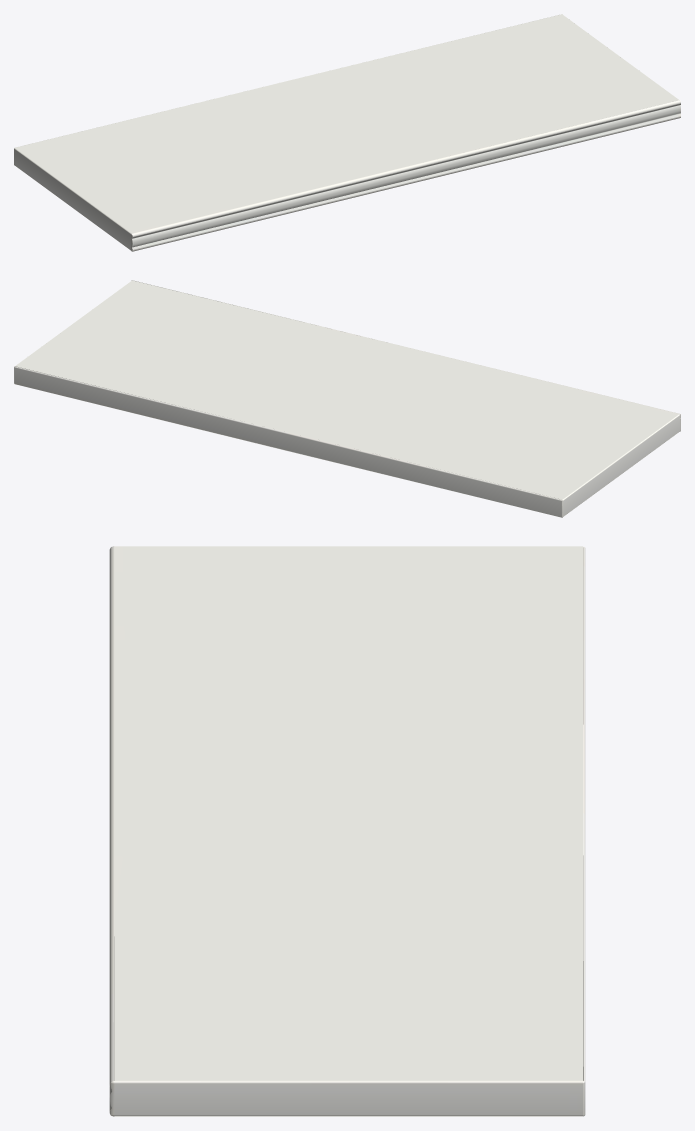
File: bergshult_poka_40400044.glb
3 views of the same model, one above another, from view 1: azimuth 30°, elevation 25°; view 2: azimuth 150°, elevation 25°; view 3: azimuth 270°, elevation 25° (orthographic). The views are drawn at different scales.
Visible parts, largest first — view 1: bergshult_poka_40400044; view 2: bergshult_poka_40400044; view 3: bergshult_poka_40400044.
Boxes of the visible parts, x1,y1,x2,y2 form: bergshult_poka_40400044: (14,14,680,251); bergshult_poka_40400044: (14,280,680,517); bergshult_poka_40400044: (109,546,585,1116).
Size of the model in its own units: 0.8 by 0.026 by 0.3.
Materials: 1 (1 with a texture image).
